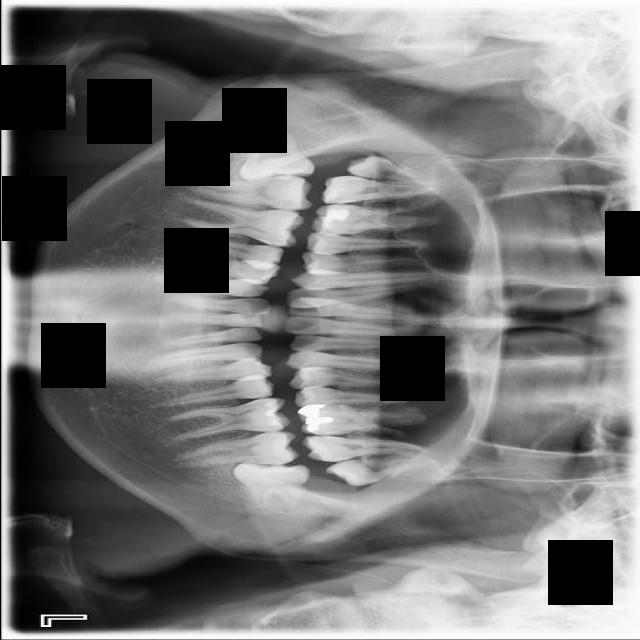3M ESPE Implant: (345, 152, 450, 188)
52: (241, 394, 291, 438), (295, 400, 341, 441), (309, 204, 357, 236)
73: (91, 568, 105, 574)
BioHorizons Implant: (302, 435, 429, 462)
BioLife Implant: (323, 449, 455, 490)
Biomet 3i Implant: (228, 459, 311, 513)
Blue Sky Bio Implant: (181, 430, 299, 467)
Caries: (319, 169, 440, 206)
Implant: (186, 175, 312, 211)
Keystone Dental Implant: (233, 124, 315, 187)
